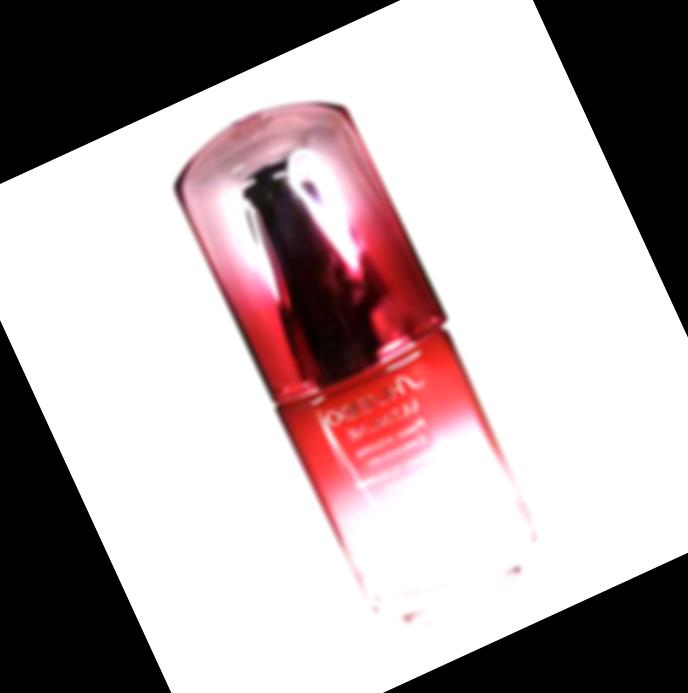cosmetic: (152, 69, 563, 648)
